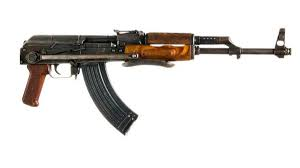gun: (18, 28, 292, 136)
